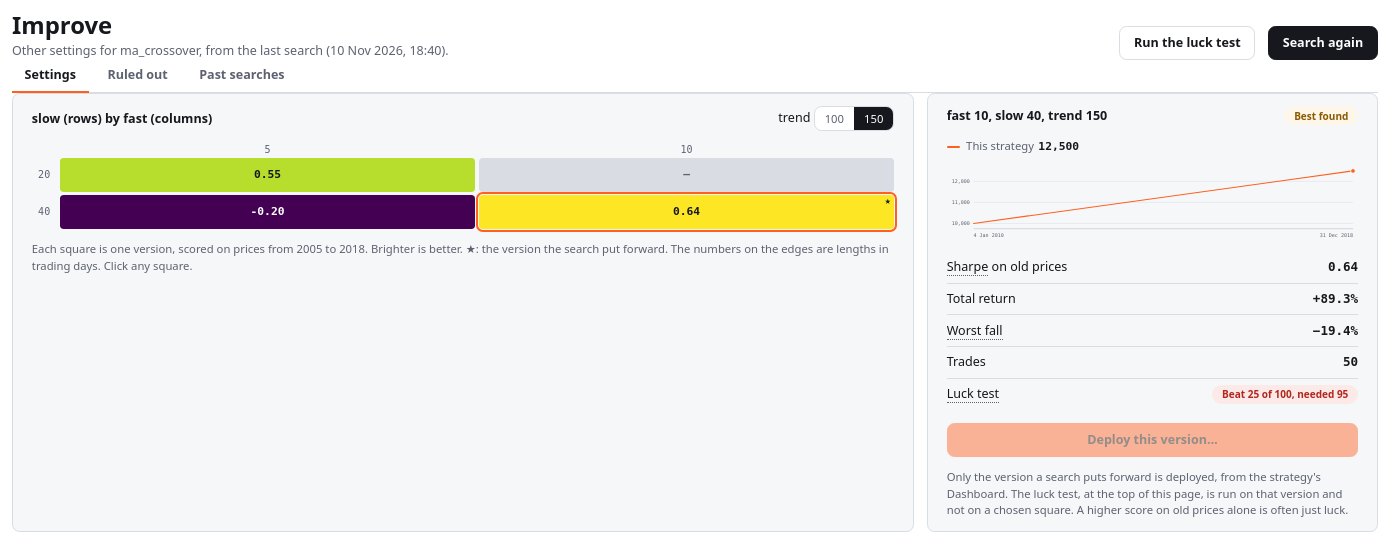
it: Improve › lists past searches, including one it could not read
The image size is (1390, 549).
Click the tab "Past searches": (242, 76) [187,60,297,93]
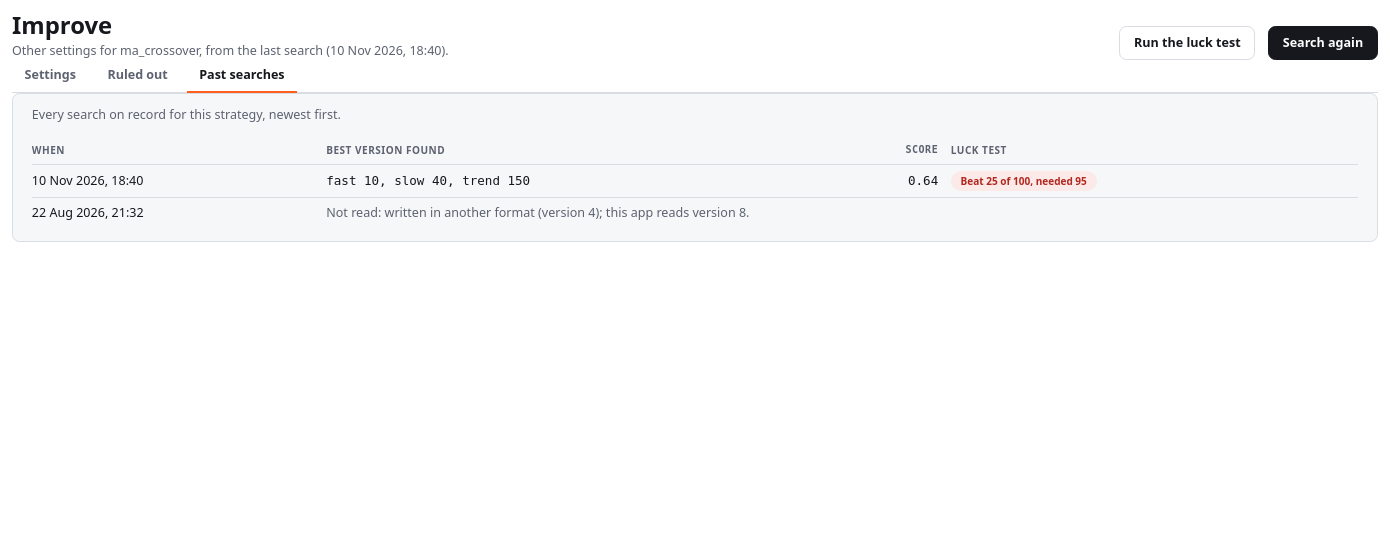
Expected: the text "10 Nov 2026, 18:40" is shown, [32,165,326,197]
Expected: the text "22 Aug 2026, 21:32" is shown, [32,197,326,228]
Expected: the text "Not read: written in another format (version 4)" is shown, [326,197,1358,228]
